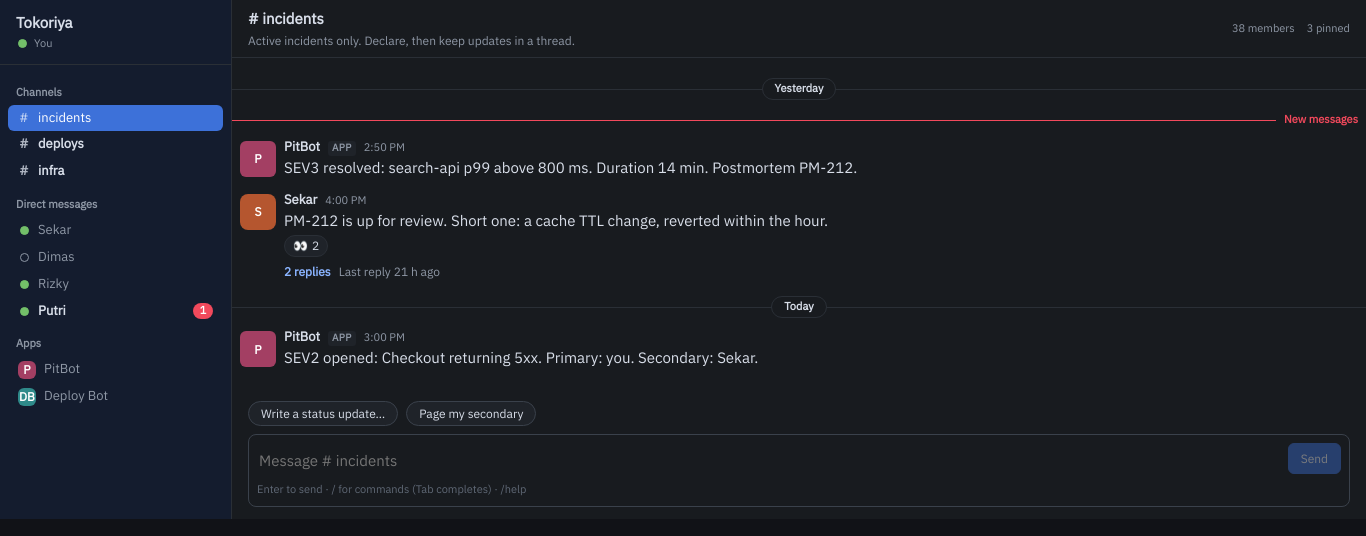
a chat you can use (M2.5 spec §7) › free text in a DM gets an honest answer
Click the button "Dimas": {"x": 116, "y": 257} 8,244 -> 223,271
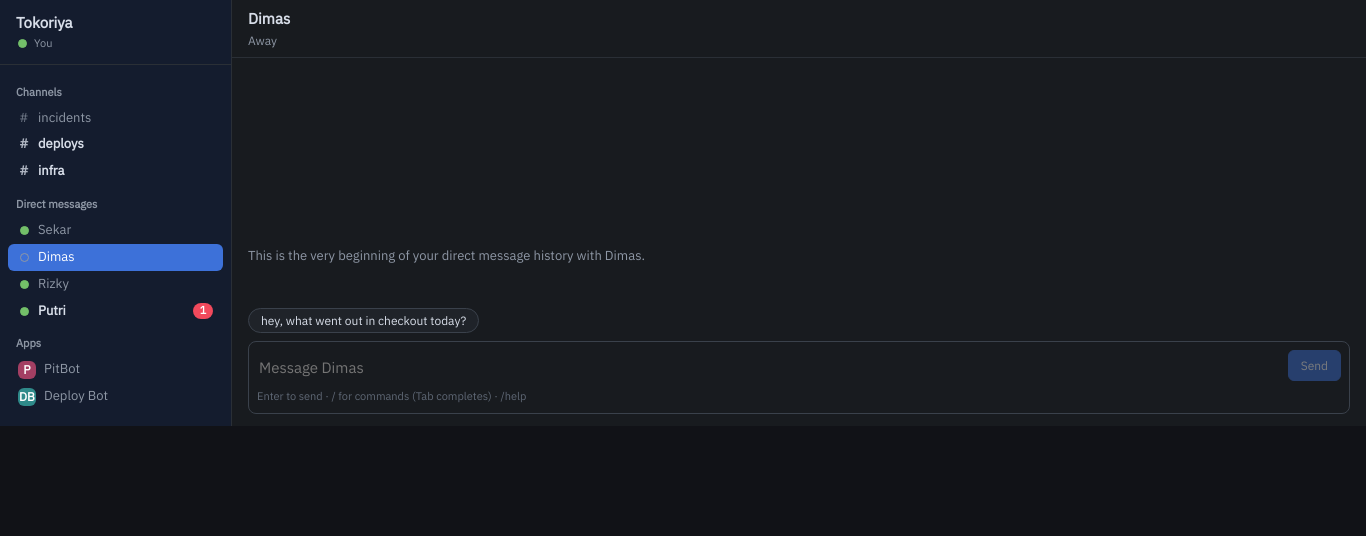
In the text box labelled "Message Dimas": {"x": 768, "y": 368} 257,355 -> 1280,381, type "did you break prod"
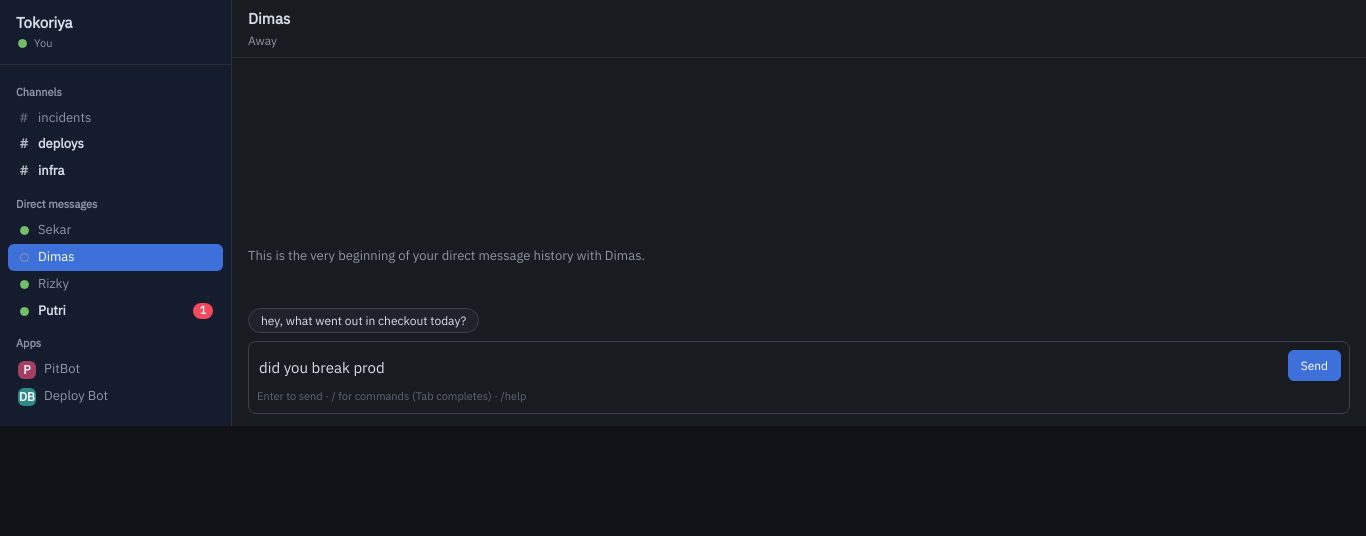
Press Enter in the text box named "Message ", box 257,355 -> 1280,381
Wait 6000 ms
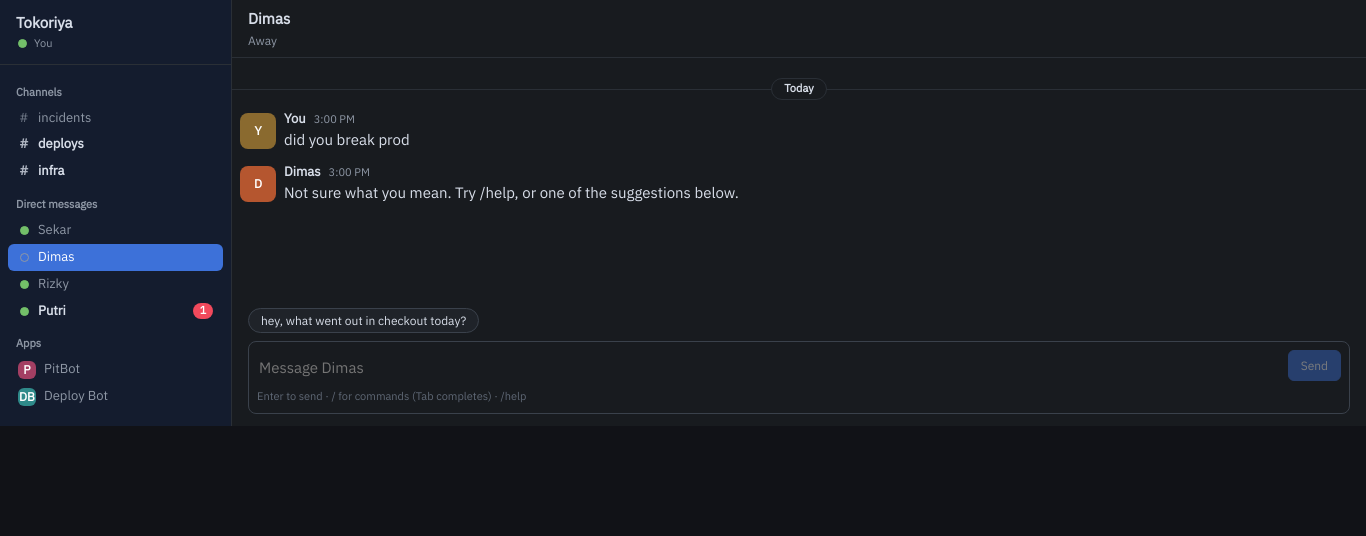
Check: the text "Not sure what you mean. Try /help, or one of the suggestions below." is shown, box 284,183 -> 739,202
